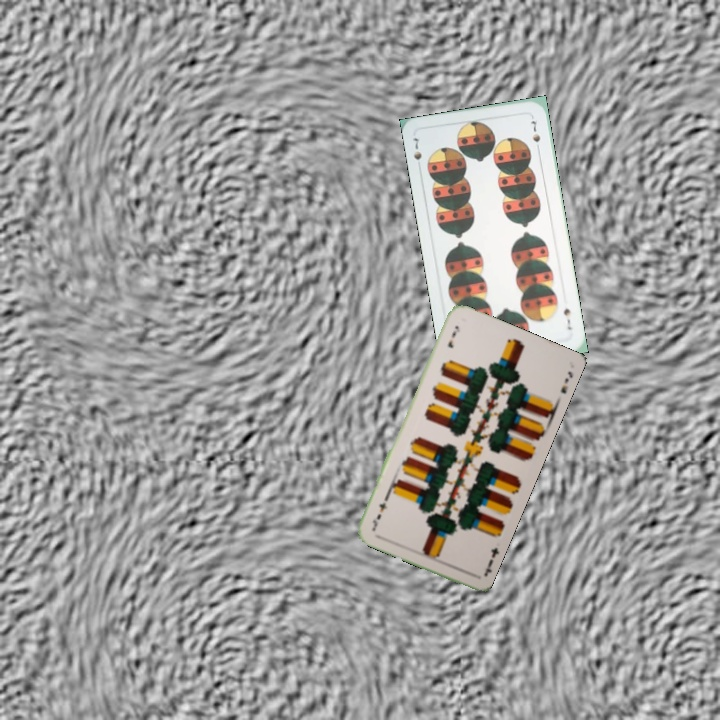E7: (480, 543, 501, 578), (444, 321, 462, 351)
S7: (408, 134, 424, 162), (559, 304, 574, 332)
